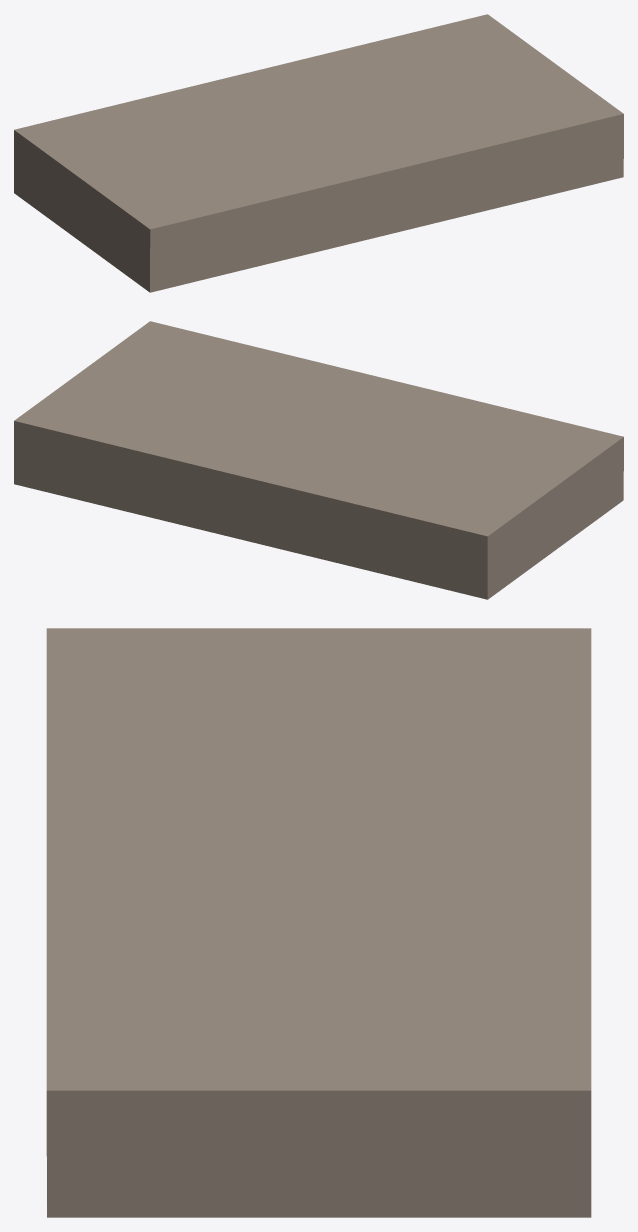
Rendered from Middle_back_spiral_balcony.fbx.
The picture shows the model from 3 angles, top to bottom: view 1: azimuth 30°, elevation 25°; view 2: azimuth 150°, elevation 25°; view 3: azimuth 270°, elevation 25°; orthographic projection. The views are drawn at different scales.
Visible parts, largest first — view 1: pCube22; view 2: pCube22; view 3: pCube22.
Boxes of the visible parts, x1=… form: pCube22: x1=14, y1=14, x2=623, y2=292; pCube22: x1=14, y1=321, x2=623, y2=599; pCube22: x1=46, y1=628, x2=591, y2=1217.
Bounding box in the file's own units: 4.03 × 0.5154 × 2.01.
